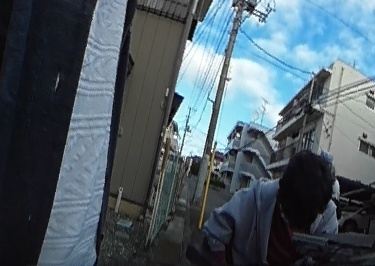person: (206, 151, 347, 266)
